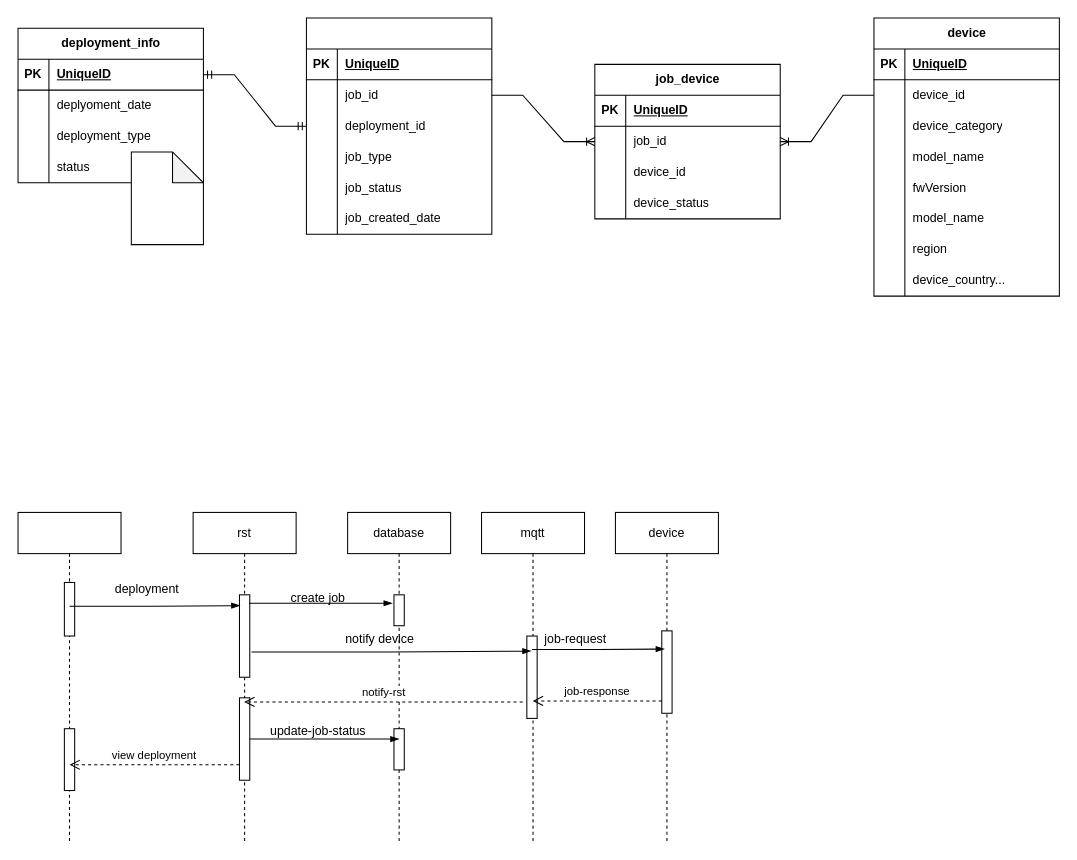
Image size: 1077x860. Some labels were removed from this diagram. The box of each missing label's shape, as (x1, y1, x2, y2) in pixels:
job_deatils: (305, 17, 492, 234)
PENDING_APPROVAL APPROVED REJECTED: (130, 151, 203, 245)
user: (17, 511, 121, 842)
